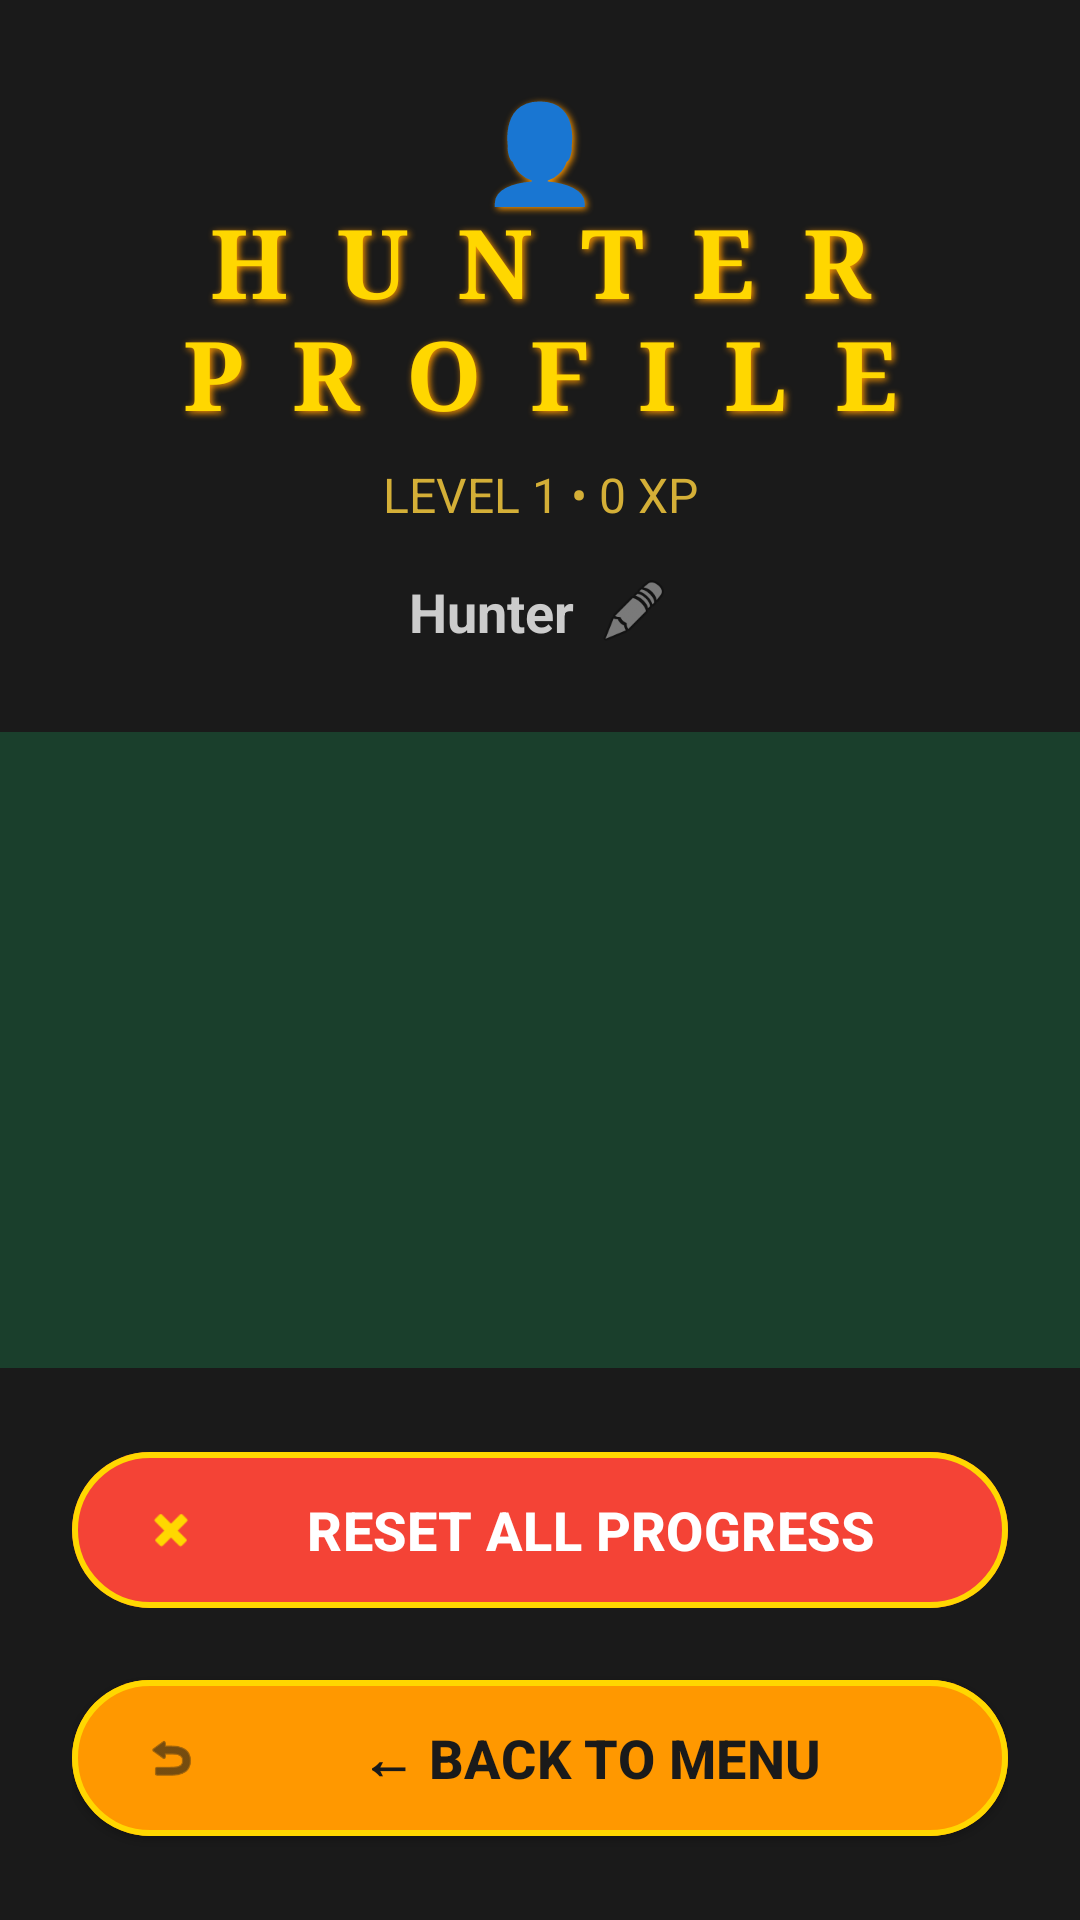

Icon click points for this 1080x1920 phone screenshot, format [x,y]:
edit: [634,610]
